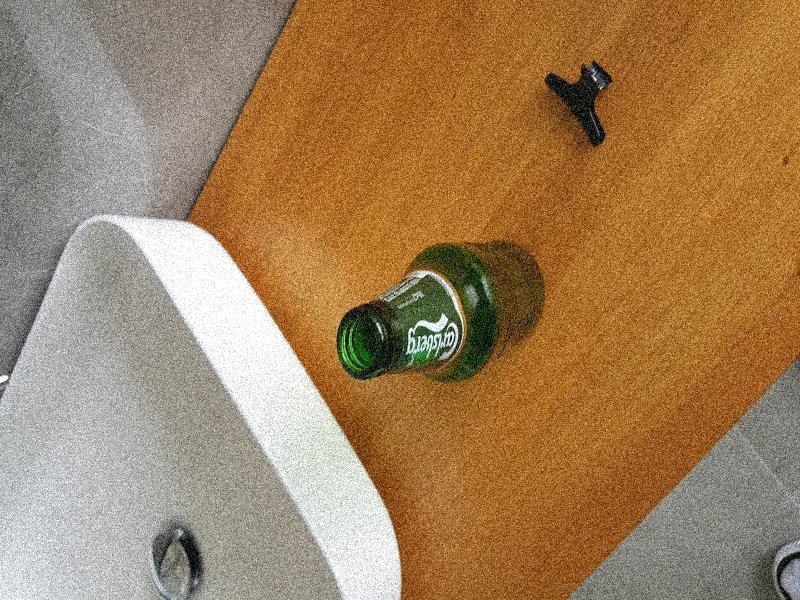Beer: (338, 242, 546, 380)
